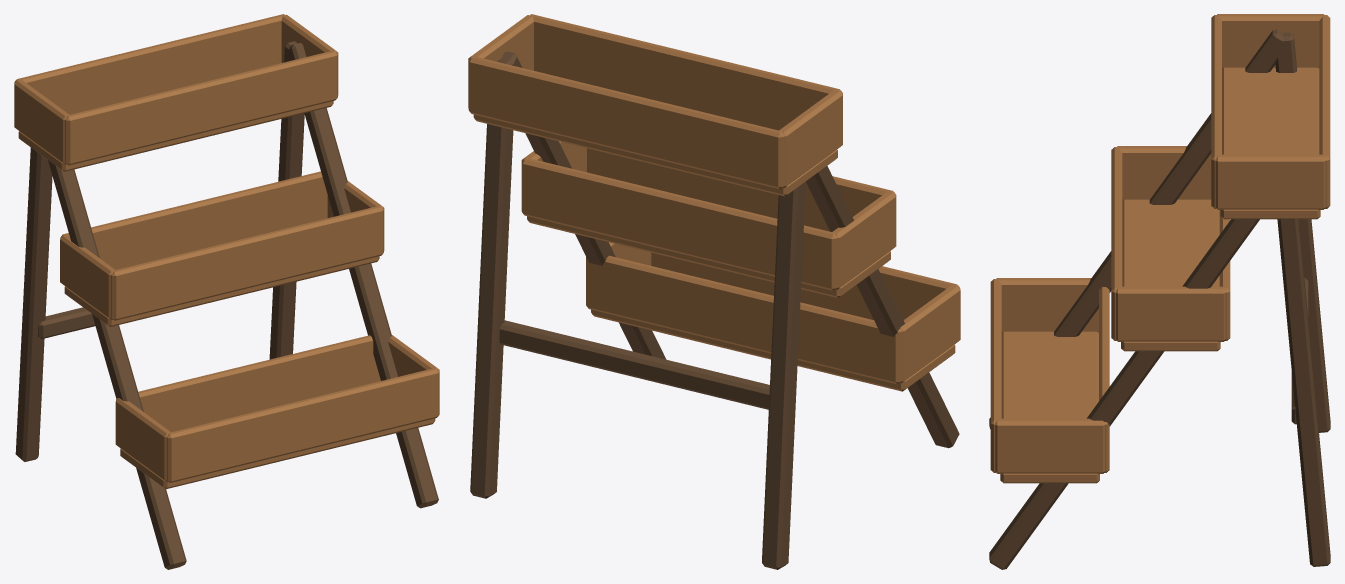
The model's file is b11_tiered_empty_planter_stand.glb.
3 renders of one model, left to right at view 1: azimuth 30°, elevation 25°; view 2: azimuth 150°, elevation 25°; view 3: azimuth 270°, elevation 25°, orthographic. The views are drawn at different scales.
Visible parts, largest first — view 1: b11_tiered_empty_planter_stand; view 2: b11_tiered_empty_planter_stand; view 3: b11_tiered_empty_planter_stand.
Part boxes in pixels (x1=…): b11_tiered_empty_planter_stand: x1=14, y1=14, x2=439, y2=569; b11_tiered_empty_planter_stand: x1=468, y1=14, x2=960, y2=569; b11_tiered_empty_planter_stand: x1=989, y1=14, x2=1330, y2=569.
Size of the model in its own units: 0.83 by 1.1 by 0.8207.
